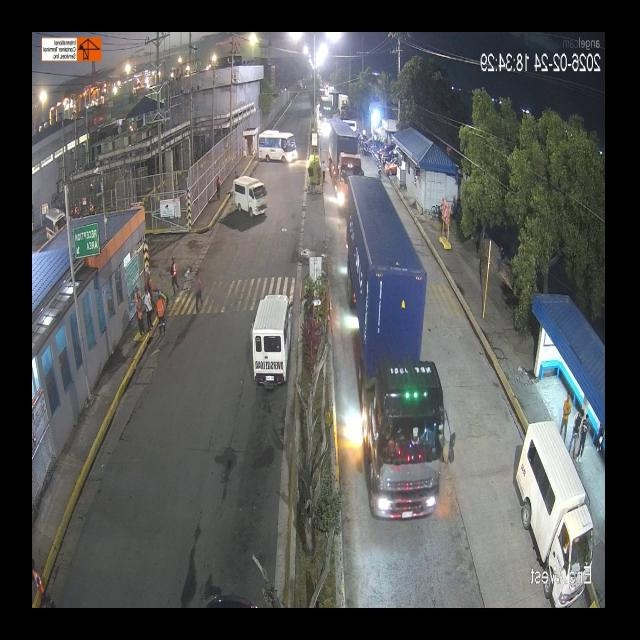bus: (251, 124, 302, 164)
car: (519, 428, 585, 564), (245, 292, 294, 393), (234, 169, 266, 220)
truck: (194, 175, 331, 528), (274, 116, 364, 209)
